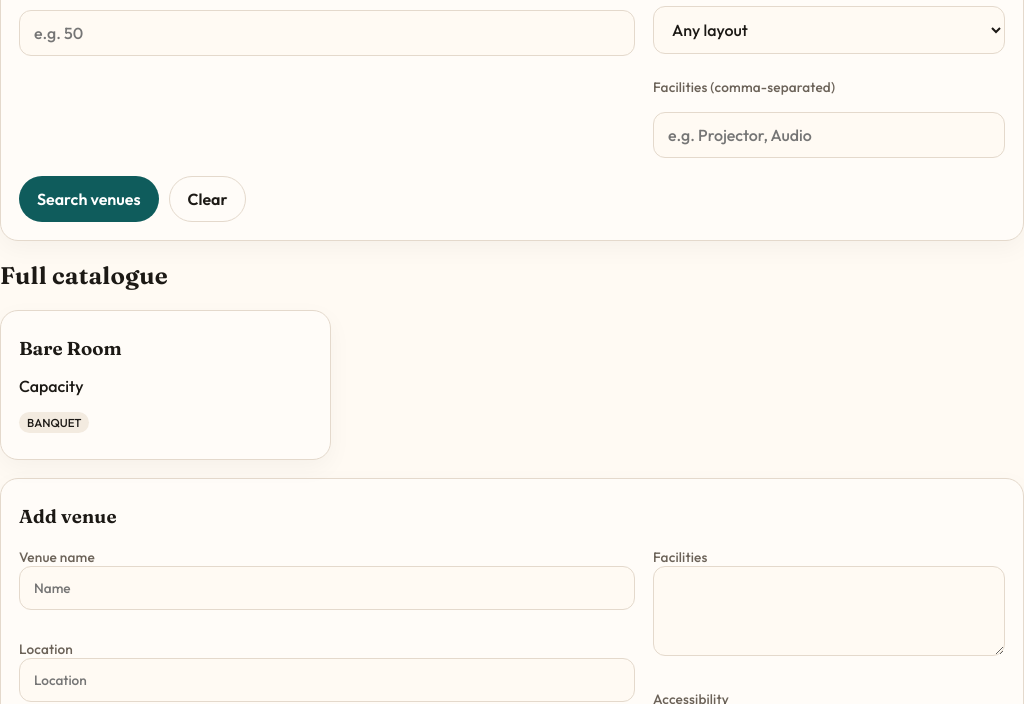
Scenario: Venues page inputs › opens a venue with missing details using empty values and defaults
(page scrolled)
Click the button "Bare Room Capacity BANQUET".
click(70, 348)  # box x1=0 y1=310 x2=331 y2=460
(page scrolled)
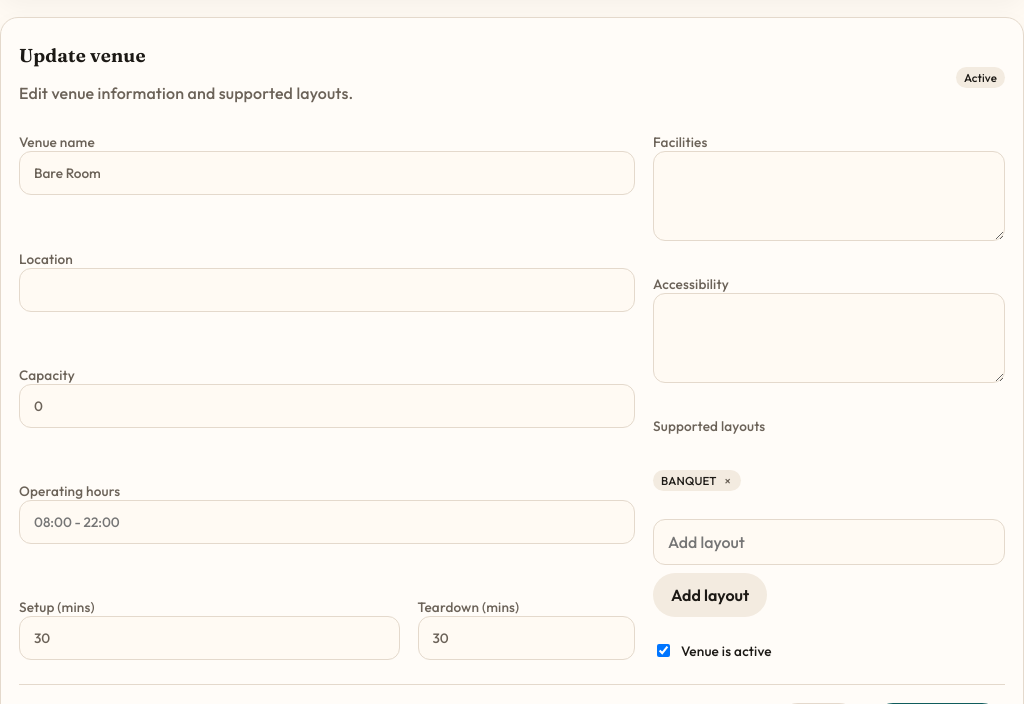
Expected: the field labelled "Location" is empty, x1=19 y1=268 x2=635 y2=312
Expected: the text box labelled "Facilities" is empty, x1=653 y1=151 x2=1005 y2=241
Expected: the number field labelled "Setup (mins)" holds "30", x1=19 y1=616 x2=400 y2=660
